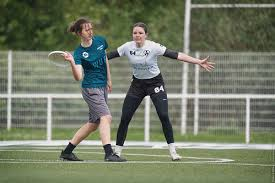disc: (46, 51, 71, 64)
